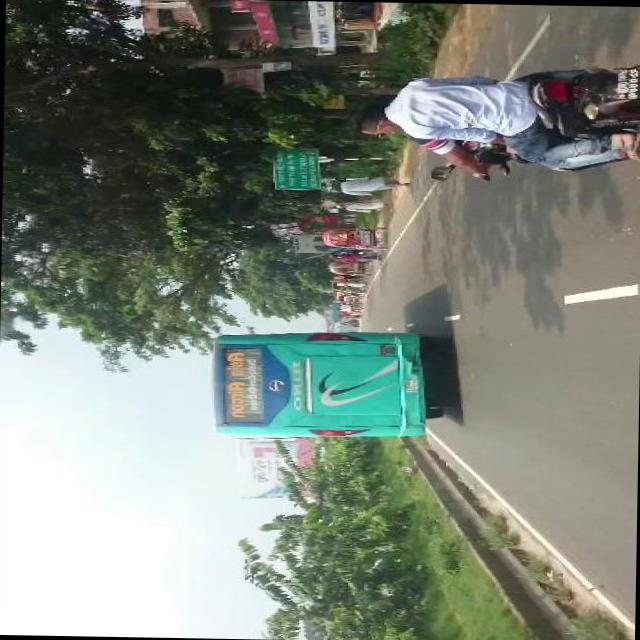bus: (210, 322, 453, 437)
motorcycle: (431, 54, 640, 181), (320, 221, 390, 251), (326, 257, 376, 276)
